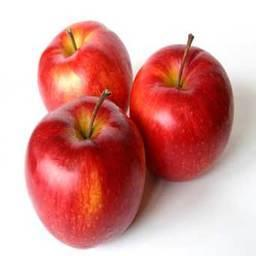apple: (23, 102, 148, 248), (130, 38, 236, 181), (35, 22, 134, 118)
